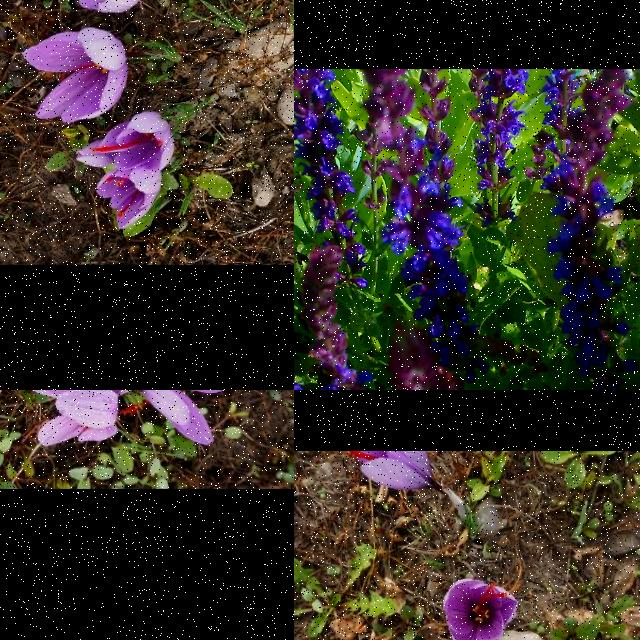flower: (20, 28, 128, 124), (12, 390, 184, 446), (121, 390, 235, 446), (442, 577, 520, 640), (348, 452, 438, 491)
overlap: (76, 110, 176, 230)
